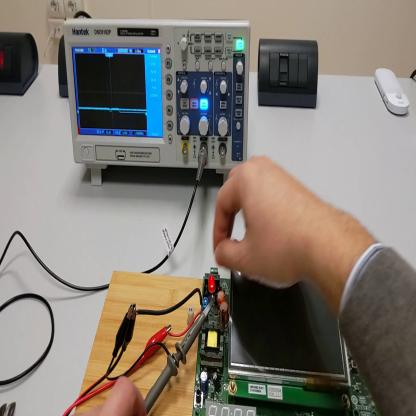hand: (213, 153, 321, 293), (73, 376, 148, 414)
low voltage board: (136, 240, 374, 415)
oscilloscope: (66, 18, 252, 188)
oscilloscope probe tip: (144, 299, 213, 414)
pliers: (2, 402, 16, 416)
socket: (2, 30, 40, 98), (59, 29, 68, 97)
working area: (77, 272, 203, 411)
